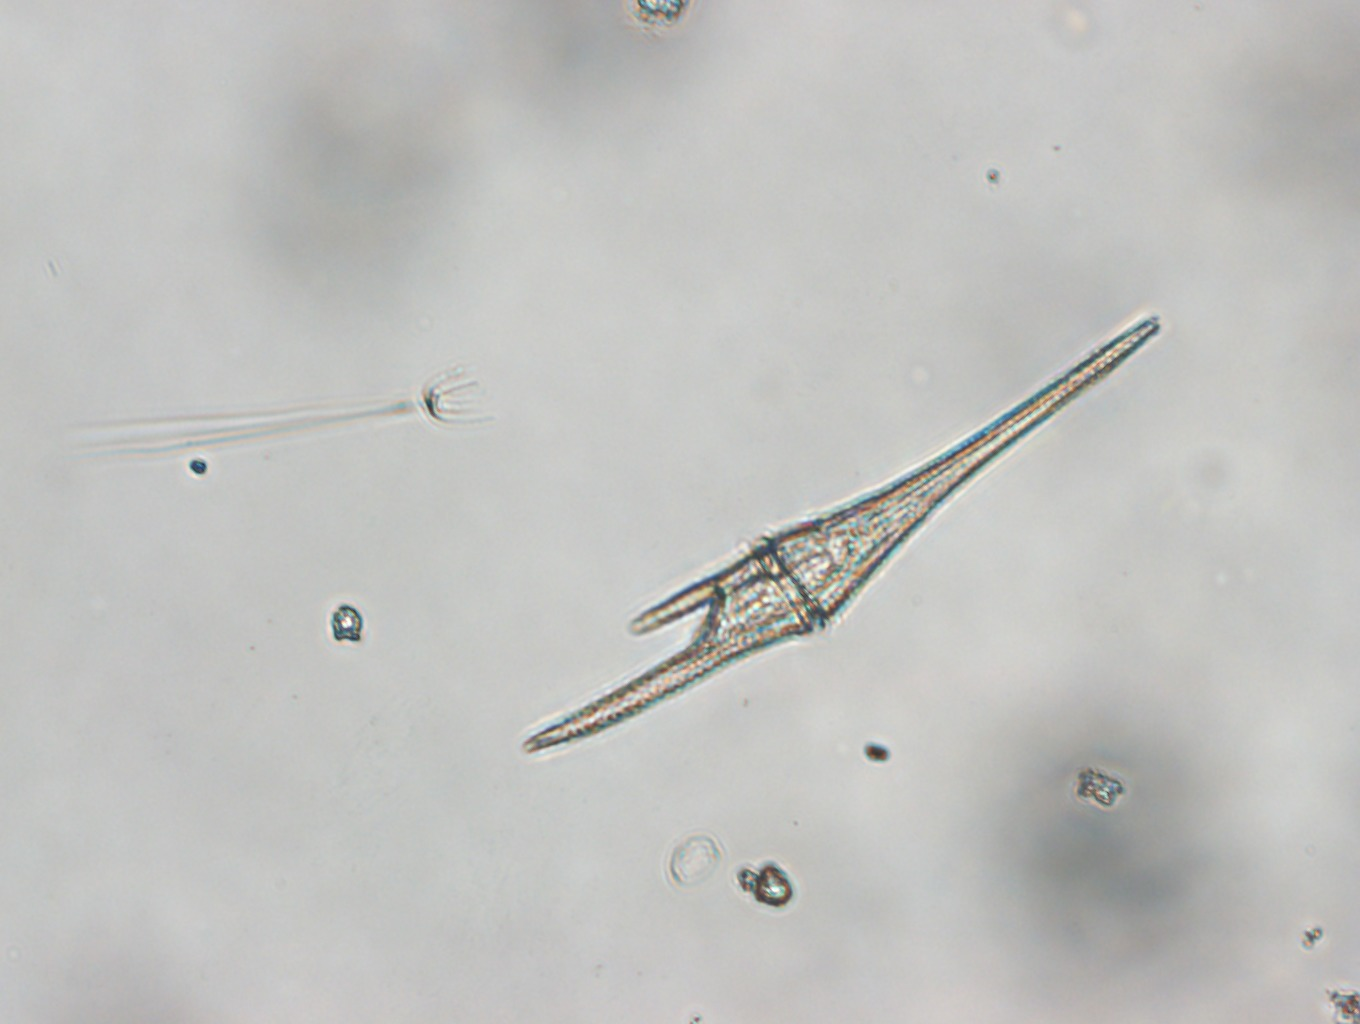ceratium furca: (524, 313, 1165, 758)
